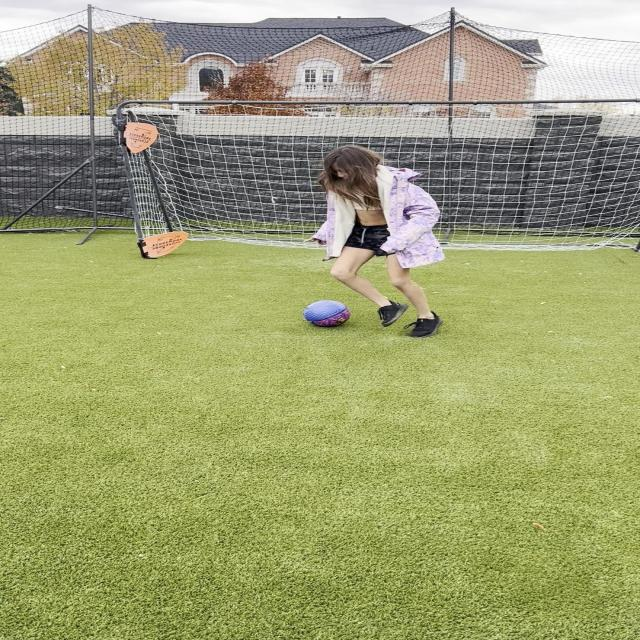ball: (305, 300, 350, 326)
